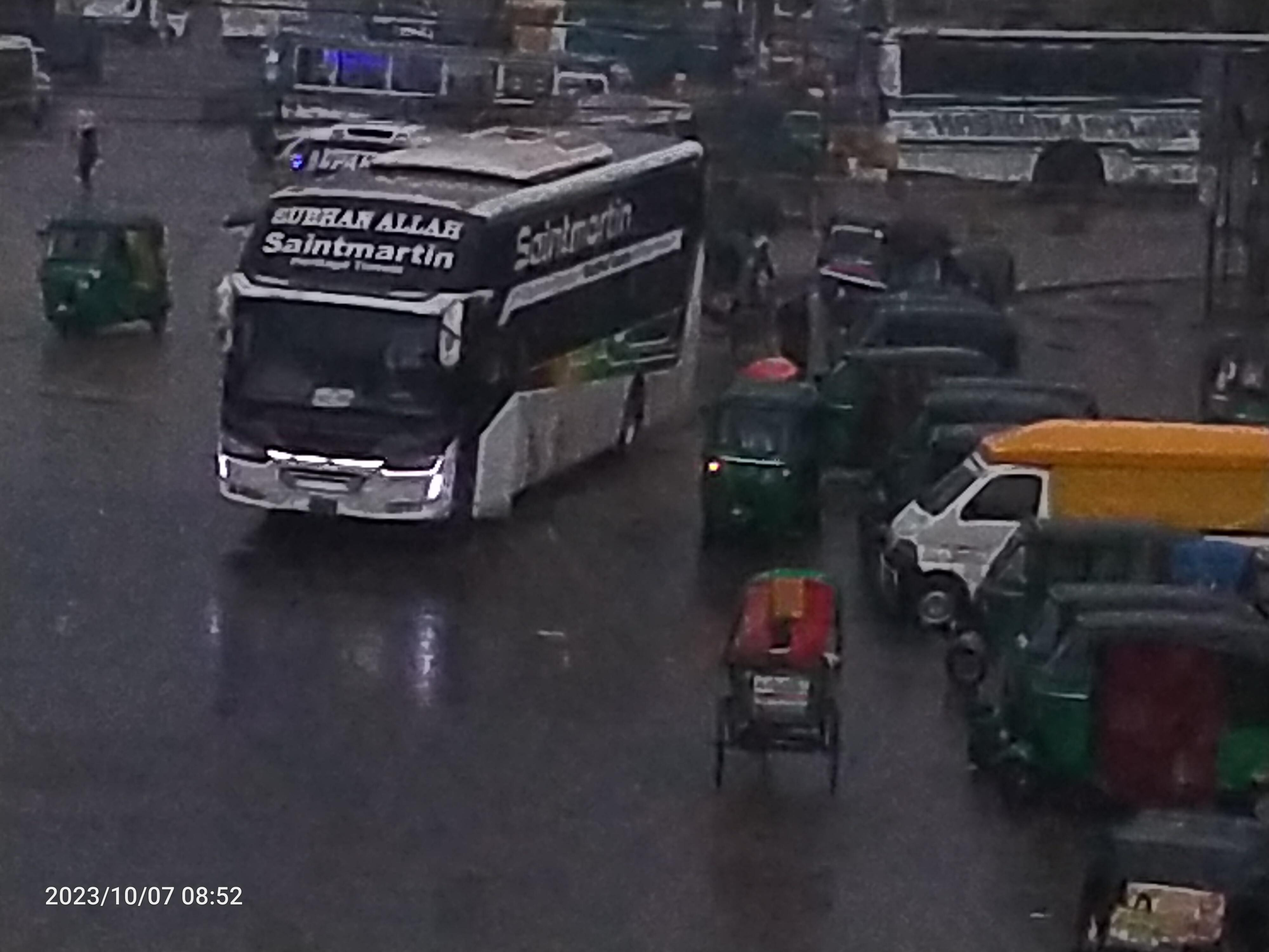Bus: (160, 104, 746, 572), (847, 0, 1269, 219)
Car: (669, 527, 893, 822)
